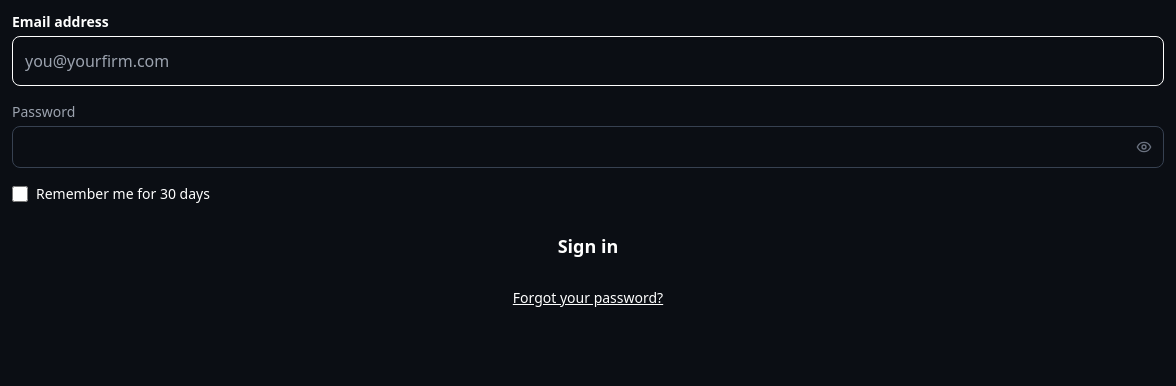
Test: sign-in lockout messaging › a locked email shows the pause message as an alert, not "invalid password"
Type "family@example.com" into the field labelled "Email address". click: (588, 61)
box: x1=12 y1=36 x2=1164 y2=86
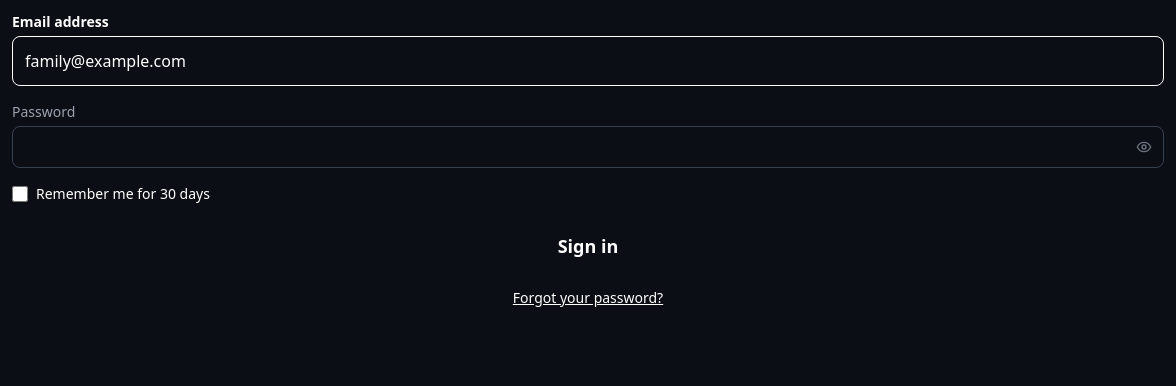
Type "Whatever123!" into the password field labelled "Password". click: (588, 147)
box: x1=12 y1=126 x2=1164 y2=168
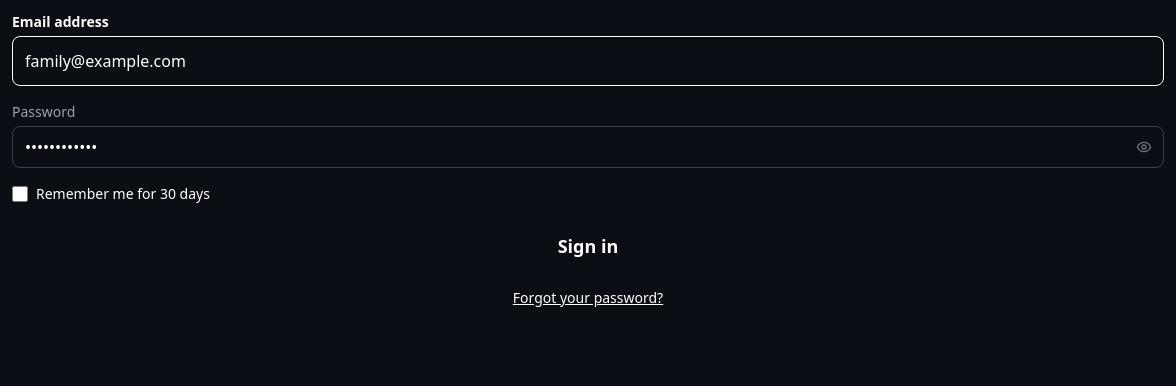
Click the button "Sign in". click: (588, 246)
box: x1=12 y1=220 x2=1164 y2=272
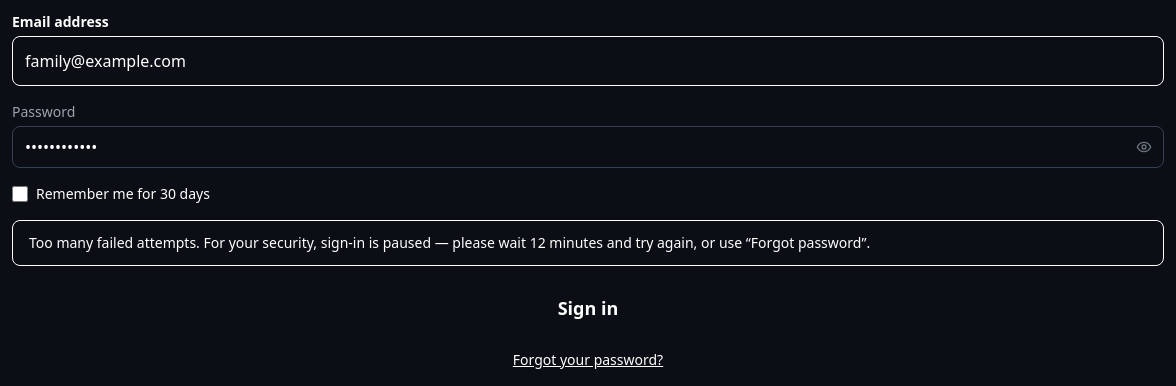
Expected: the message shows "Too many failed attempts", x1=29 y1=233 x2=870 y2=252
Expected: the message shows "wait 12 minutes", x1=29 y1=233 x2=870 y2=252
